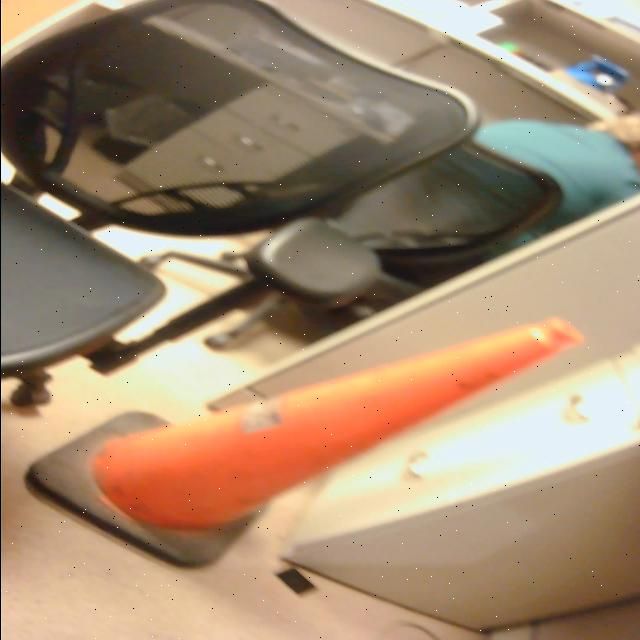traffic cone: (17, 314, 595, 572)
